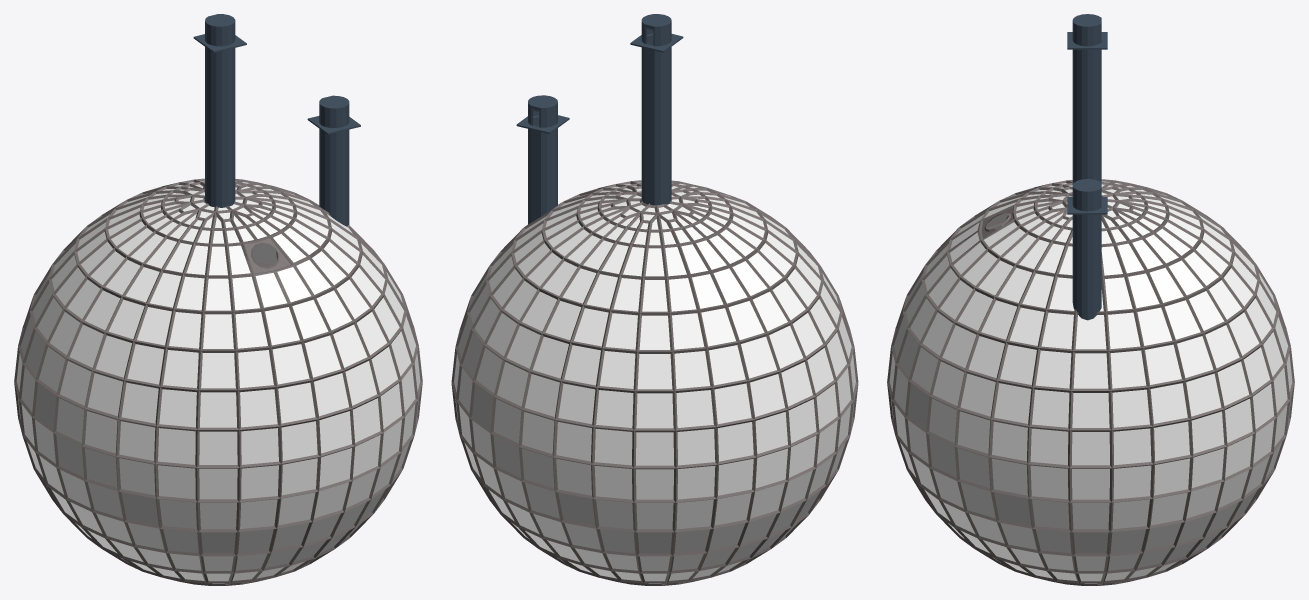
File: Elevatortower.fbx
3 views of the same model, side by side, from view 1: azimuth 30°, elevation 25°; view 2: azimuth 150°, elevation 25°; view 3: azimuth 270°, elevation 25° (orthographic).
Parts seen in each view (by area): view 1: Dome_glass, Dome, Elevator Tower3, Elevator Tower2; view 2: Dome_glass, Dome, Elevator Tower3, Elevator Tower2; view 3: Dome_glass, Dome, Elevator Tower3, Elevator Tower2.
Boxes of the visible parts, <box> form: Dome_glass: <box>16,180,420,583</box>; Dome: <box>14,178,422,585</box>; Elevator Tower3: <box>193,14,246,207</box>; Elevator Tower2: <box>307,95,360,226</box>; Dome_glass: <box>454,182,855,583</box>; Dome: <box>451,180,858,585</box>; Elevator Tower3: <box>630,14,683,205</box>; Elevator Tower2: <box>516,95,569,224</box>; Dome_glass: <box>889,181,1292,583</box>; Dome: <box>887,179,1294,585</box>; Elevator Tower3: <box>1067,14,1107,184</box>; Elevator Tower2: <box>1067,179,1107,320</box>.
Size of the model in its own units: 3435 by 5111 by 3454.
